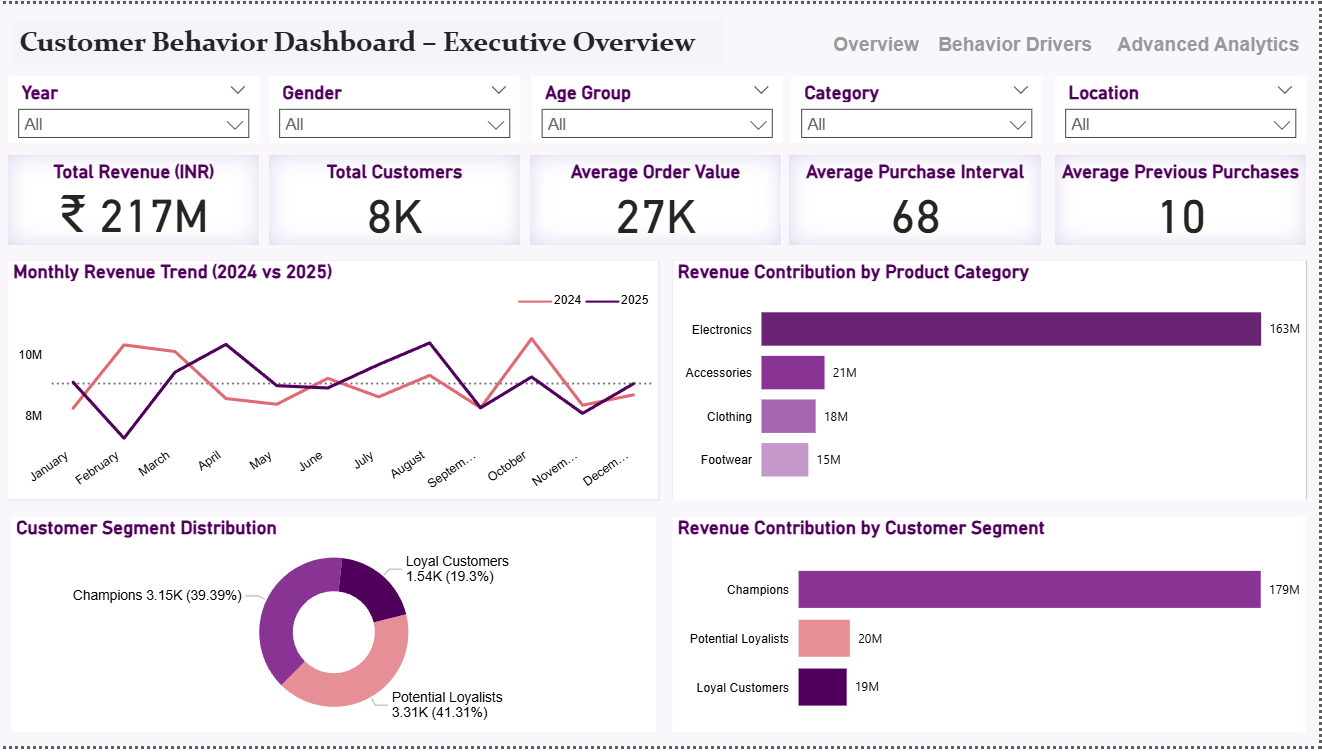

Layout of this report page (visuals, bound fields, positions):
{"tool":"powerbi","page":{"name":"Overview","canvas":[1280,720],"ordinal":0},"visuals":[{"type":"shape","box":[0,0,1279.4,57.2],"z":0},{"type":"shape","box":[0,134.8,252.9,99.7],"z":1000},{"type":"shape","box":[252.9,134.8,252.9,99.7],"z":2000},{"type":"shape","box":[505.8,134.8,252.9,99.7],"z":3000},{"type":"shape","box":[758.8,134.8,252.9,99.7],"z":4000},{"type":"shape","box":[1011.7,134.8,267.7,99.7],"z":5000},{"type":"shape","box":[0,249.2,640.6,232.6],"z":6000},{"type":"shape","box":[653.5,249.2,625.9,232.6],"z":7000},{"type":"shape","box":[0,498.5,636.9,208.6],"z":8000},{"type":"textbox","box":[14.8,14.8,688.6,42.5],"z":9000},{"type":"actionButton","box":[777.2,14.8,147.7,49.8],"z":10000},{"type":"actionButton","box":[904.6,14.8,164.3,49.8],"z":11000},{"type":"actionButton","box":[1068.9,14.8,210.5,49.8],"z":12000},{"type":"card","fields":{"Values":["Sum(customer_retail_data.purchase_amount)"]},"box":[9.2,147.7,243.7,86.8],"z":13000,"group":"g1"},{"type":"lineChart","title":"Monthly Revenue Trend (2024 vs 2025)","fields":{"Category":["customer_retail_data.purchase_date.Variation.Date Hierarchy.Month"],"Y":["customer_retail_data.Total Revenue"],"Series":["customer_retail_data.purchase_date.Variation.Date Hierarchy.Year"]},"box":[9.2,249.2,631.4,232],"z":13000},{"type":"card","fields":{"Values":["Count(customer_retail_data.customer_id)"]},"box":[262.1,147.7,243.7,86.8],"z":14000,"group":"g1"},{"type":"clusteredBarChart","title":"Revenue Contribution by Product Category","fields":{"Category":["customer_retail_data.category"],"Y":["customer_retail_data.Total Revenue"]},"box":[653.5,249.2,614.8,232.6],"z":14000},{"type":"card","fields":{"Values":["customer_retail_data.Average Order Value"]},"box":[515,147.7,243.7,86.8],"z":15000,"group":"g1"},{"type":"shape","box":[640.7,497.6,638.5,222.4],"z":15000},{"type":"card","fields":{"Values":["customer_retail_data.Avg Purchase Interval"]},"box":[768,147.7,243.7,86.8],"z":16000,"group":"g1"},{"type":"donutChart","title":"Customer Segment Distribution","fields":{"Y":["CountNonNull(customer_retail_data.customer_id)"],"Category":["customer_retail_data.Customer Segments"]},"box":[11.1,498.5,625.9,208.6],"z":16000},{"type":"card","fields":{"Values":["customer_retail_data.Avg Previous Purchases"]},"box":[1024.6,147.7,243.7,86.8],"z":17000,"group":"g1"},{"type":"clusteredBarChart","title":"Revenue Contribution by Customer Segment","fields":{"Category":["customer_retail_data.Customer Segments"],"Y":["customer_retail_data.Total Revenue"]},"box":[653.5,498.5,614.8,208.6],"z":17000},{"type":"group","id":"g1","title":"Group 1","box":[9.2,147.7,1259.1,86.8],"z":18000},{"type":"slicer","fields":{"Values":["customer_retail_data.Year"]},"box":[9.2,70.2,243.7,64.6],"z":19000},{"type":"slicer","fields":{"Values":["customer_retail_data.gender"]},"box":[262.2,70.2,243.7,64.6],"z":20000},{"type":"slicer","fields":{"Values":["customer_retail_data.age_group"]},"box":[516.9,70.2,243.7,64.6],"z":21000},{"type":"slicer","fields":{"Values":["customer_retail_data.category"]},"box":[768,70.2,243.7,64.6],"z":22000},{"type":"slicer","fields":{"Values":["customer_retail_data.location"]},"box":[1024.6,70.2,243.7,64.6],"z":23000}]}

Visuals, with their boxes in screenshot pixels (x1, y1, x2, y2), scaled from the page's 1280x720 canvas onto the 1322x752 screenshot:
shape: {"left": 0, "top": 0, "right": 1321, "bottom": 60}
shape: {"left": 0, "top": 141, "right": 261, "bottom": 245}
shape: {"left": 261, "top": 141, "right": 522, "bottom": 245}
shape: {"left": 522, "top": 141, "right": 784, "bottom": 245}
shape: {"left": 784, "top": 141, "right": 1045, "bottom": 245}
shape: {"left": 1045, "top": 141, "right": 1321, "bottom": 245}
shape: {"left": 0, "top": 260, "right": 662, "bottom": 503}
shape: {"left": 675, "top": 260, "right": 1321, "bottom": 503}
shape: {"left": 0, "top": 521, "right": 658, "bottom": 739}
textbox: {"left": 15, "top": 15, "right": 726, "bottom": 60}
actionButton: {"left": 803, "top": 15, "right": 955, "bottom": 67}
actionButton: {"left": 934, "top": 15, "right": 1104, "bottom": 67}
actionButton: {"left": 1104, "top": 15, "right": 1321, "bottom": 67}
card - Sum(customer_retail_data.purchase_amount): {"left": 10, "top": 154, "right": 261, "bottom": 245}
"Monthly Revenue Trend (2024 vs 2025)" lineChart: {"left": 10, "top": 260, "right": 662, "bottom": 503}
card - Count(customer_retail_data.customer_id): {"left": 271, "top": 154, "right": 522, "bottom": 245}
"Revenue Contribution by Product Category" clusteredBarChart: {"left": 675, "top": 260, "right": 1310, "bottom": 503}
card - customer_retail_data.Average Order Value: {"left": 532, "top": 154, "right": 784, "bottom": 245}
shape: {"left": 662, "top": 520, "right": 1321, "bottom": 751}
card - customer_retail_data.Avg Purchase Interval: {"left": 793, "top": 154, "right": 1045, "bottom": 245}
"Customer Segment Distribution" donutChart: {"left": 11, "top": 521, "right": 658, "bottom": 739}
card - customer_retail_data.Avg Previous Purchases: {"left": 1058, "top": 154, "right": 1310, "bottom": 245}
"Revenue Contribution by Customer Segment" clusteredBarChart: {"left": 675, "top": 521, "right": 1310, "bottom": 739}
"Group 1" group: {"left": 10, "top": 154, "right": 1310, "bottom": 245}
slicer - customer_retail_data.Year: {"left": 10, "top": 73, "right": 261, "bottom": 141}
slicer - customer_retail_data.gender: {"left": 271, "top": 73, "right": 522, "bottom": 141}
slicer - customer_retail_data.age_group: {"left": 534, "top": 73, "right": 786, "bottom": 141}
slicer - customer_retail_data.category: {"left": 793, "top": 73, "right": 1045, "bottom": 141}
slicer - customer_retail_data.location: {"left": 1058, "top": 73, "right": 1310, "bottom": 141}
